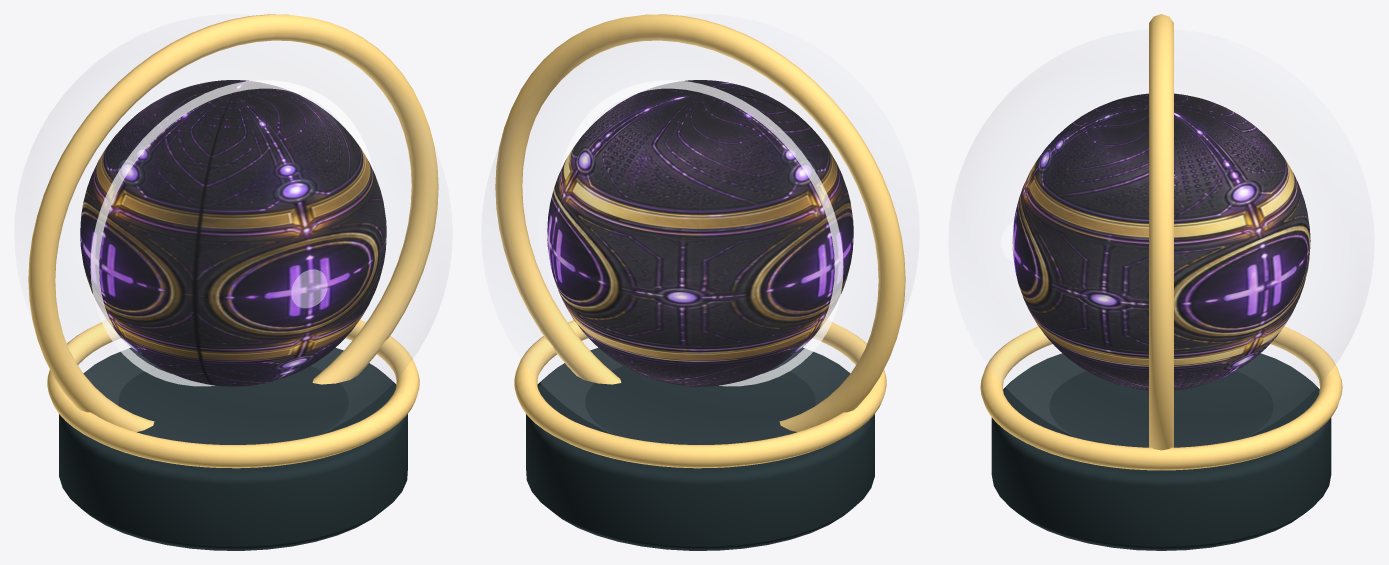
Rendered from hp_pickup_route_output_orb_4.glb.
3 renders of one model, left to right at view 1: azimuth 30°, elevation 25°; view 2: azimuth 150°, elevation 25°; view 3: azimuth 270°, elevation 25°, orthographic. The views are drawn at different scales.
Parts seen in each view (by area): view 1: route_orb_4_image2_api_wrap_inner_sphere, route_orb_4_floor_socket, route_orb_4_front_protective_brass_frame, route_orb_4_base_locking_trim, route_orb_4_inner_light_equator, route_orb_4_inner_light_core; view 2: route_orb_4_image2_api_wrap_inner_sphere, route_orb_4_floor_socket, route_orb_4_front_protective_brass_frame, route_orb_4_base_locking_trim, route_orb_4_inner_light_equator; view 3: route_orb_4_image2_api_wrap_inner_sphere, route_orb_4_floor_socket, route_orb_4_base_locking_trim, route_orb_4_front_protective_brass_frame.
Part boxes in pixels (x1=…): route_orb_4_image2_api_wrap_inner_sphere: x1=80, y1=80, x2=386, y2=386; route_orb_4_floor_socket: x1=59, y1=347, x2=407, y2=550; route_orb_4_front_protective_brass_frame: x1=28, y1=14, x2=438, y2=432; route_orb_4_base_locking_trim: x1=47, y1=320, x2=419, y2=468; route_orb_4_inner_light_equator: x1=90, y1=80, x2=373, y2=386; route_orb_4_inner_light_core: x1=291, y1=269, x2=327, y2=307; route_orb_4_image2_api_wrap_inner_sphere: x1=547, y1=80, x2=853, y2=386; route_orb_4_floor_socket: x1=526, y1=347, x2=874, y2=550; route_orb_4_front_protective_brass_frame: x1=495, y1=14, x2=905, y2=432; route_orb_4_base_locking_trim: x1=514, y1=320, x2=886, y2=468; route_orb_4_inner_light_equator: x1=560, y1=80, x2=843, y2=386; route_orb_4_image2_api_wrap_inner_sphere: x1=1012, y1=93, x2=1310, y2=390; route_orb_4_floor_socket: x1=991, y1=353, x2=1331, y2=550; route_orb_4_base_locking_trim: x1=980, y1=326, x2=1342, y2=470; route_orb_4_front_protective_brass_frame: x1=1149, y1=14, x2=1173, y2=450.
Size of the model in its own units: 0.484 by 0.524 by 0.452.
Materials: 5 (1 with a texture image).
